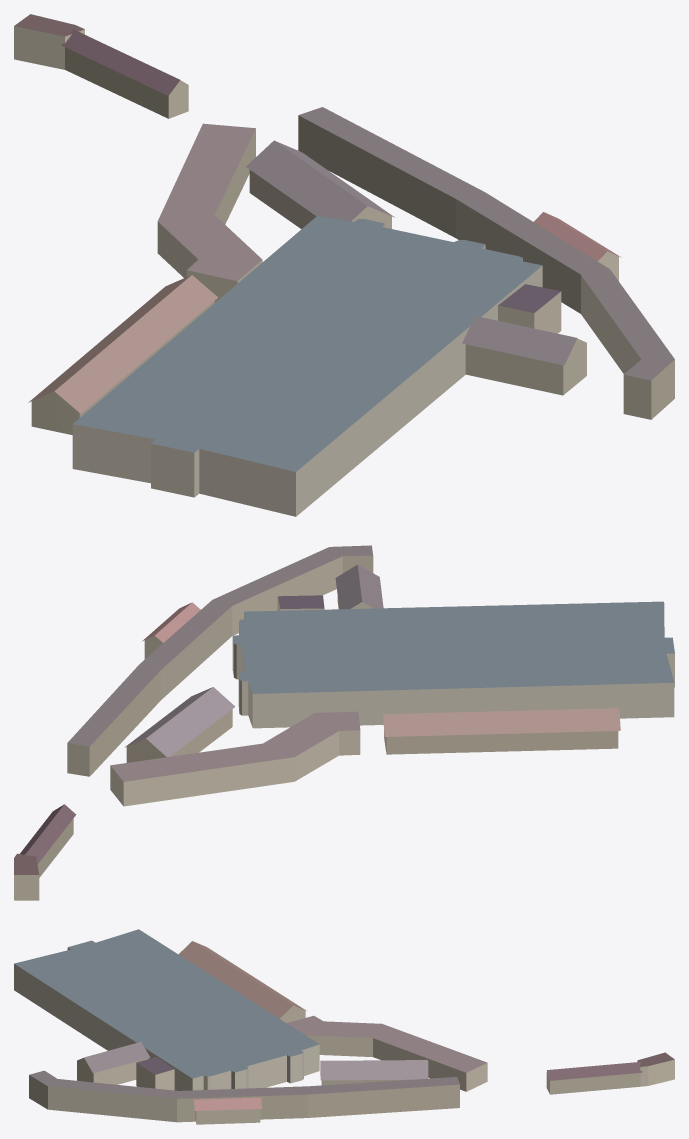
The picture shows the model from 3 angles, top to bottom: view 1: azimuth 30°, elevation 25°; view 2: azimuth 150°, elevation 25°; view 3: azimuth 270°, elevation 25°; orthographic projection. The views are drawn at different scales.
Parts seen in each view (by area): view 1: tuile; view 2: tuile; view 3: tuile.
Boxes of the visible parts, x1,y1,x2,y2 form: tuile: (14, 14, 674, 516); tuile: (14, 545, 674, 900); tuile: (14, 929, 674, 1124).
Size of the model in its own units: 84.75 by 8.3 by 137.
